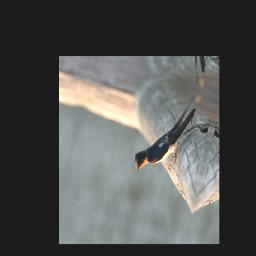Swallow: (129, 80, 200, 188)
